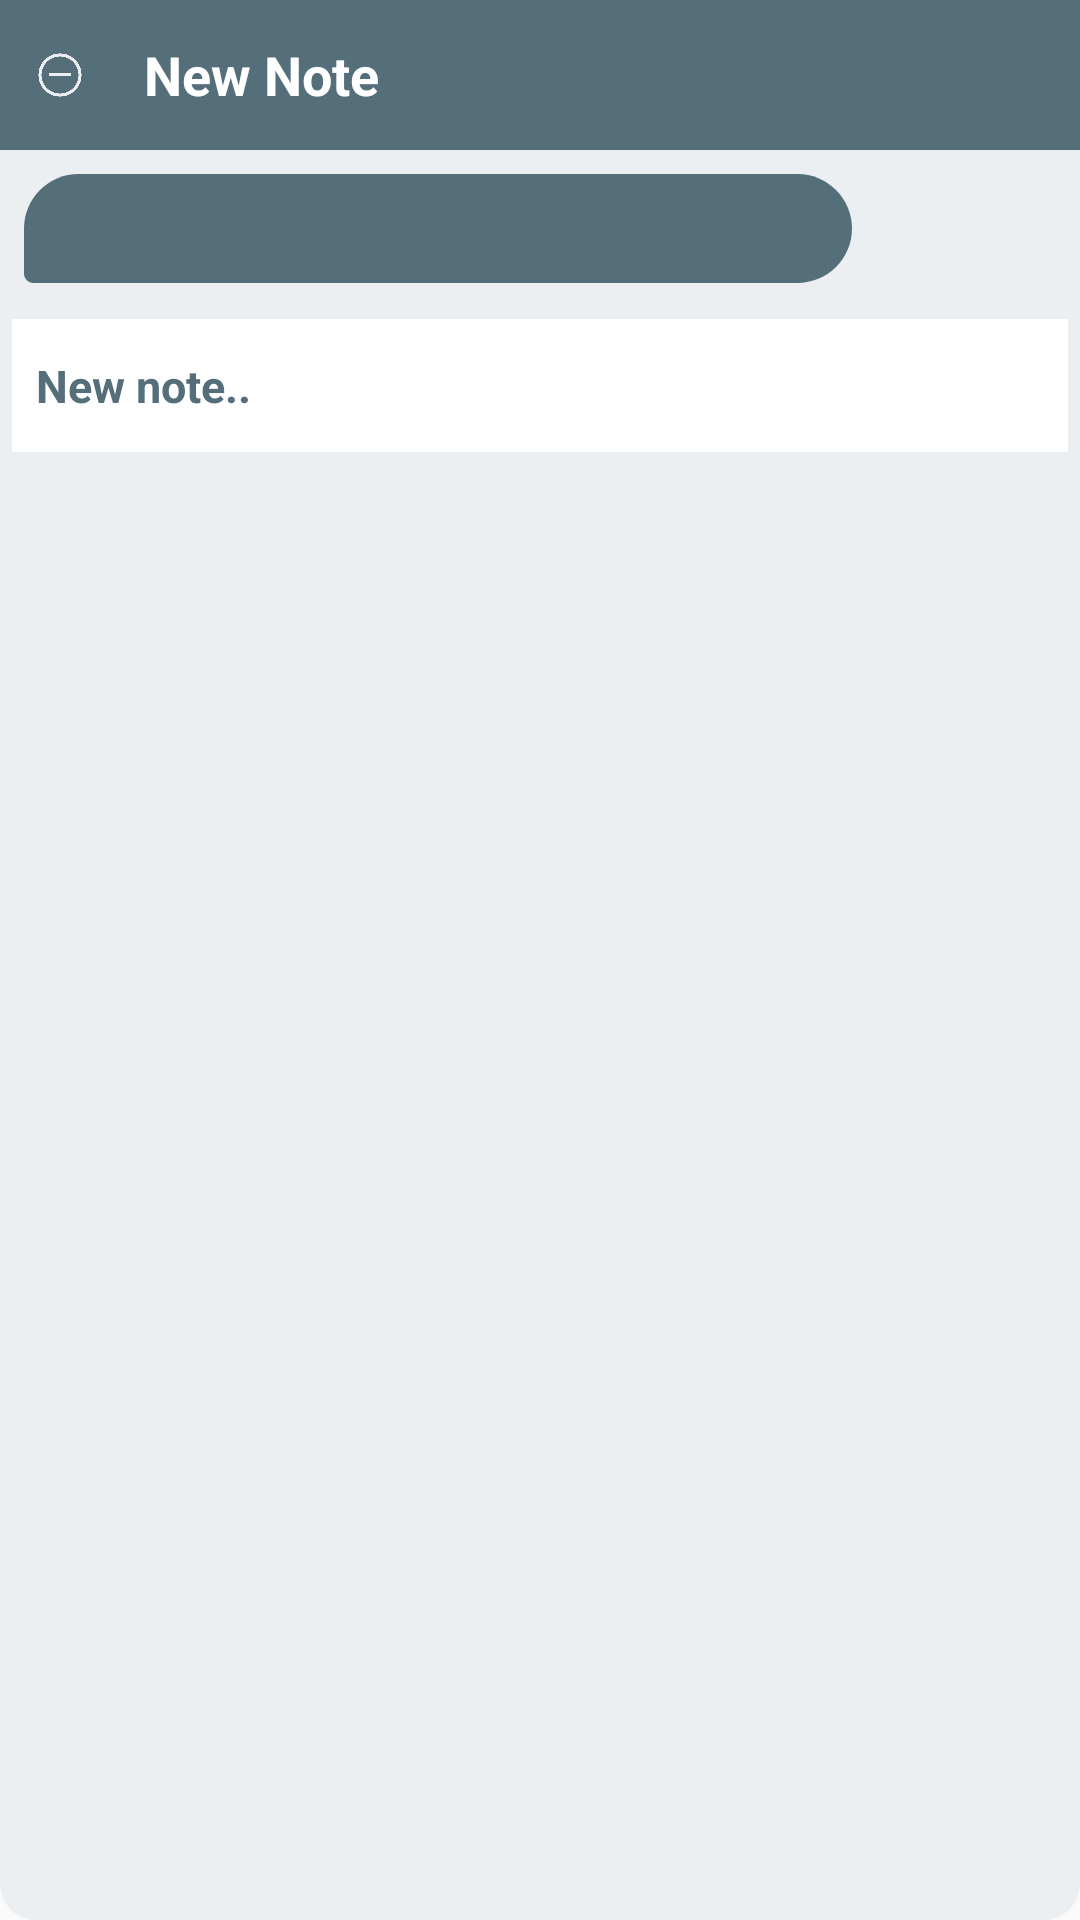

Locate icon controls on the screen. Image size 1080*1920, boxes as rect(x1, y1, x2, y2).
remove: rect(38, 53, 82, 97)
